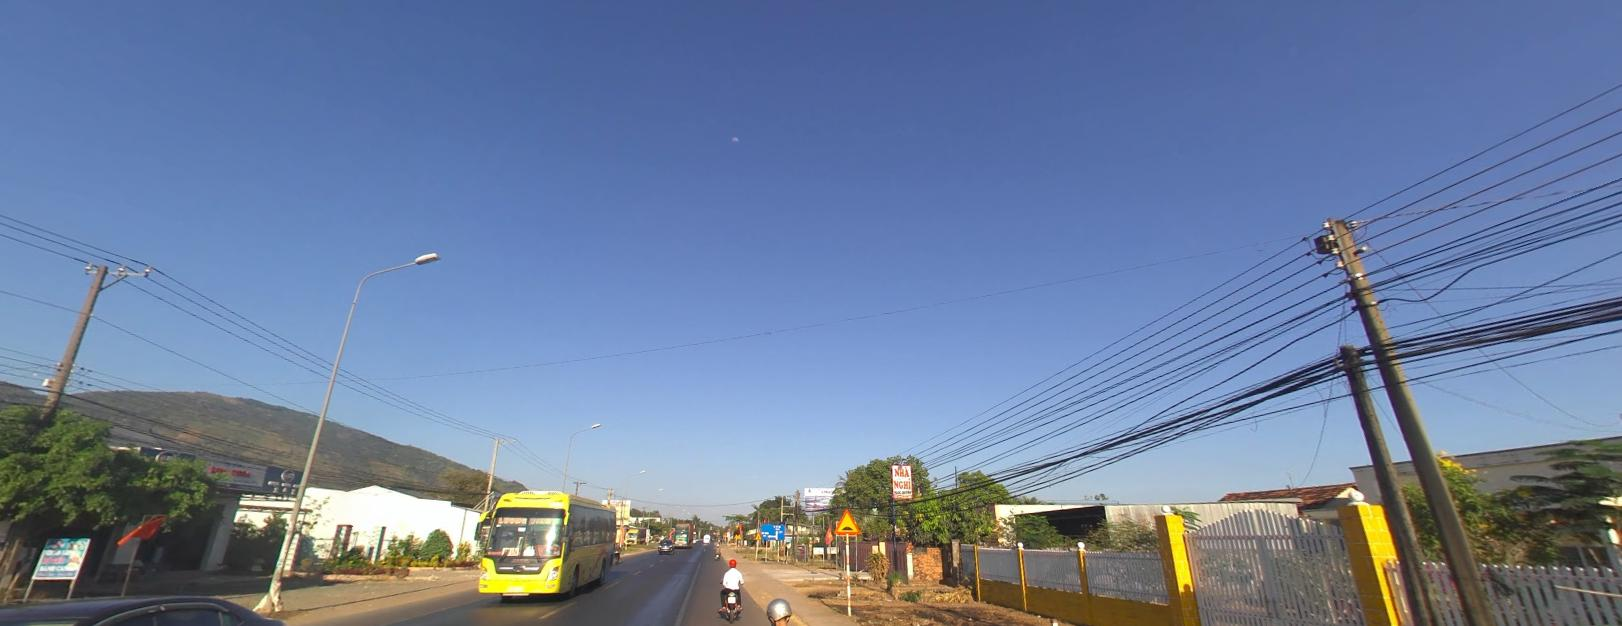Nguy hiem: (831, 505, 864, 537), (753, 532, 762, 540), (735, 533, 741, 538), (733, 533, 737, 537)
